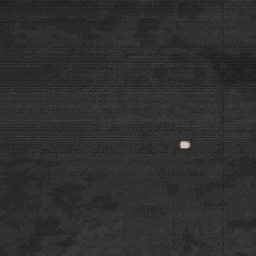Target: (178, 138, 192, 148)
